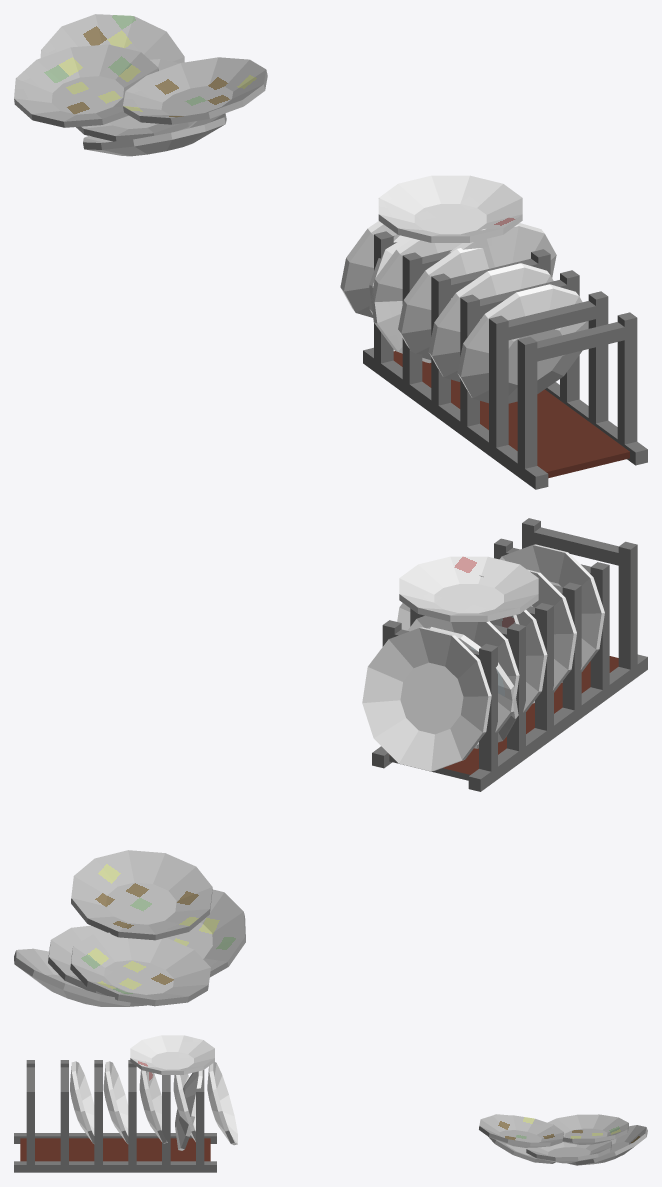
Rendered from dishes.gltf.
3 views of the same model, one above another, from view 1: azimuth 30°, elevation 25°; view 2: azimuth 150°, elevation 25°; view 3: azimuth 270°, elevation 25° (orthographic). The views are drawn at different scales.
Parts seen in each view (by area): view 1: cylinder (×13), cuboid (×14), base; view 2: cylinder (×12), cuboid (×8), base; view 3: cylinder (×12), cuboid (×8), base.
Part boxes in pixels (x1=…): cylinder (×13): x1=14, y1=14, x2=588, y2=403; cuboid (×14): x1=363, y1=231, x2=647, y2=489; base: x1=393, y1=351, x2=629, y2=478; cylinder (×12): x1=14, y1=544, x2=604, y2=1006; cuboid (×8): x1=468, y1=527, x2=647, y2=791; base: x1=389, y1=656, x2=618, y2=780; cylinder (×12): x1=70, y1=1035, x2=647, y2=1165; cuboid (×8): x1=14, y1=1088, x2=216, y2=1172; base: x1=20, y1=1138, x2=210, y2=1161.
Bounding box in the file's own units: 0.0901 × 0.0828 × 0.4682.
2 materials, 2 textured.
